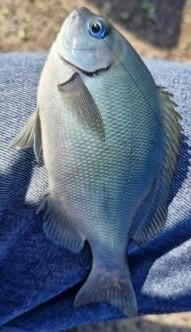fish: (9, 7, 189, 317)
